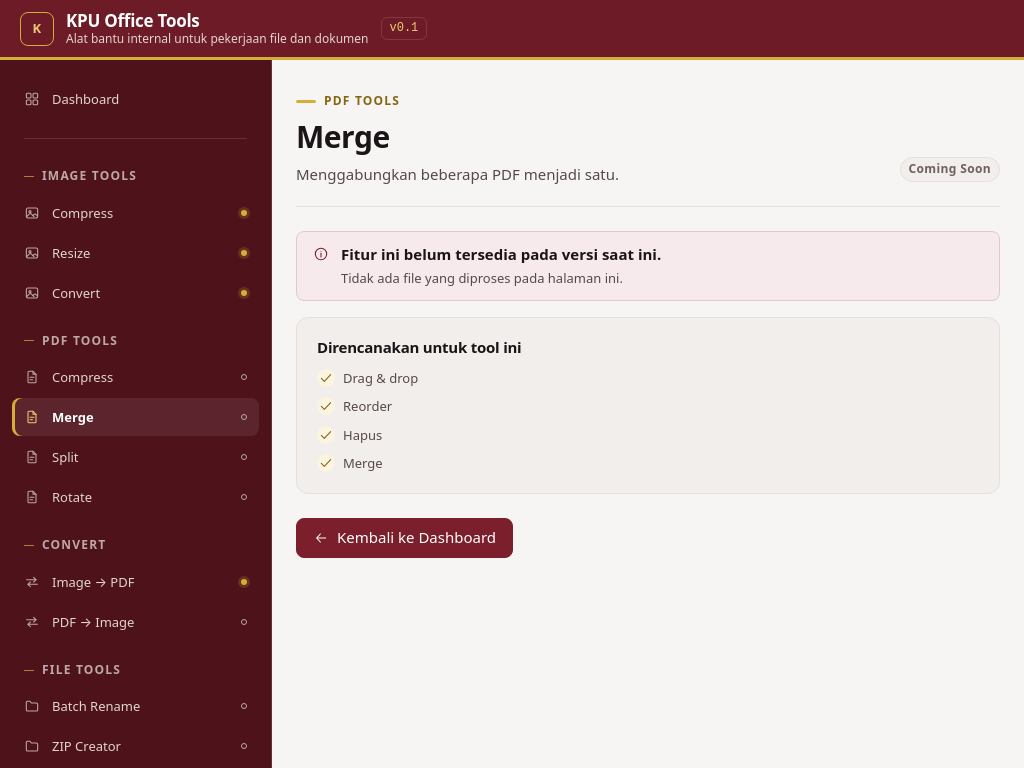
navigasi: interaksi menu › halaman Coming Soon punya link kembali ke Dashboard
Click the link "Kembali ke Dashboard" at [405, 538], box [296,518,513,558]
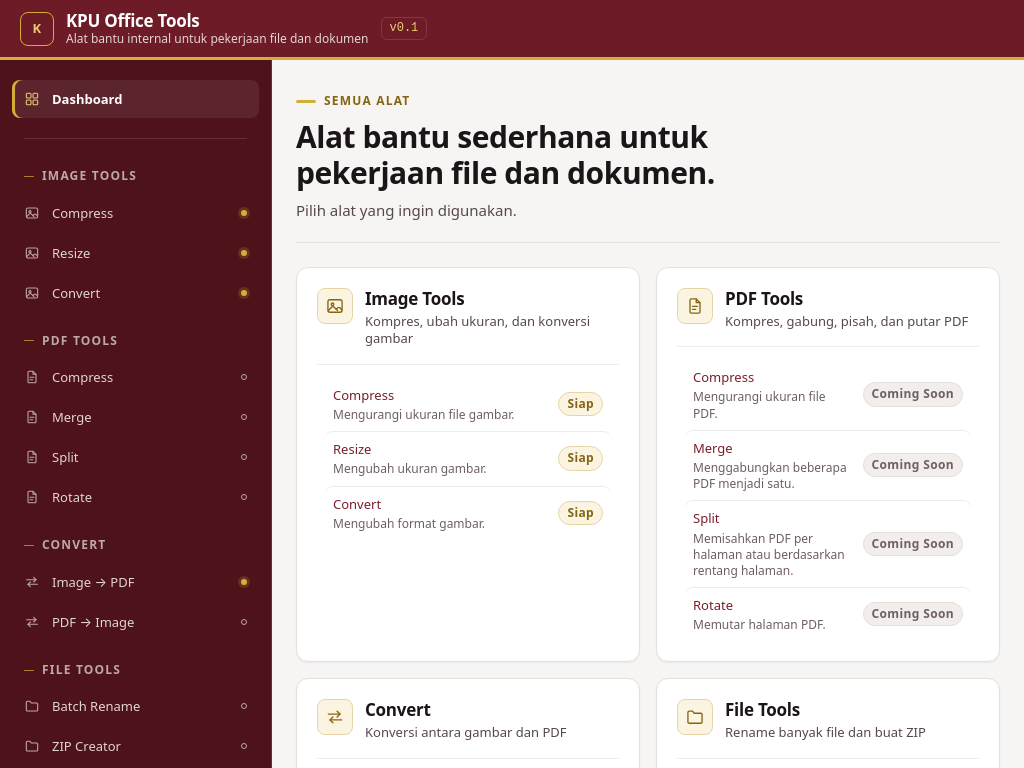
Now the heading "Alat bantu sederhana untuk pekerjaan file dan dokumen." is shown, box [296,116,715,193]
